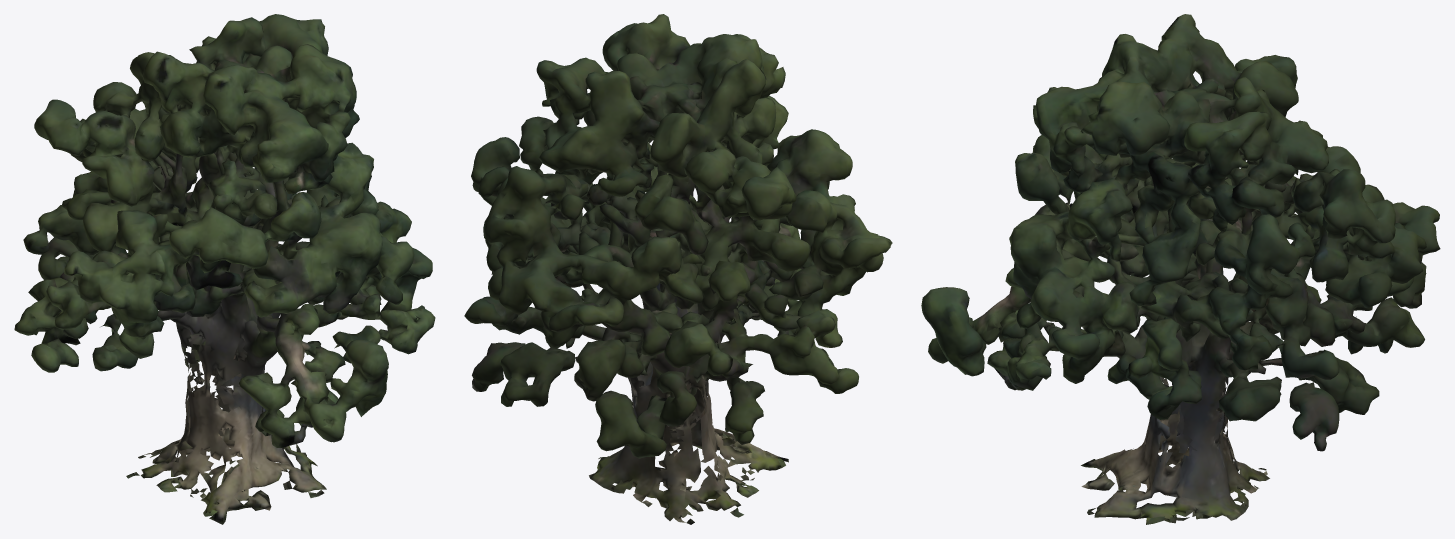
The model's file is tree_0424095401_refine.fbx.
The picture shows the model from 3 angles, left to right: view 1: azimuth 30°, elevation 25°; view 2: azimuth 150°, elevation 25°; view 3: azimuth 270°, elevation 25°; orthographic projection.
Parts seen in each view (by area): view 1: Mesh_0; view 2: Mesh_0; view 3: Mesh_0.
Part boxes in pixels (x1,y1,x2,y2): Mesh_0: (14, 14, 435, 524); Mesh_0: (464, 14, 892, 524); Mesh_0: (921, 14, 1440, 524).
Size of the model in its own units: 163 by 189 by 199.
Materials: 1 (1 with a texture image).
